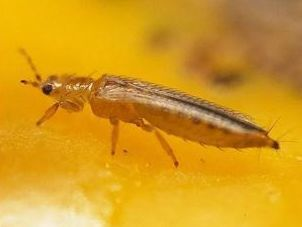thrips: (20, 46, 281, 167)
